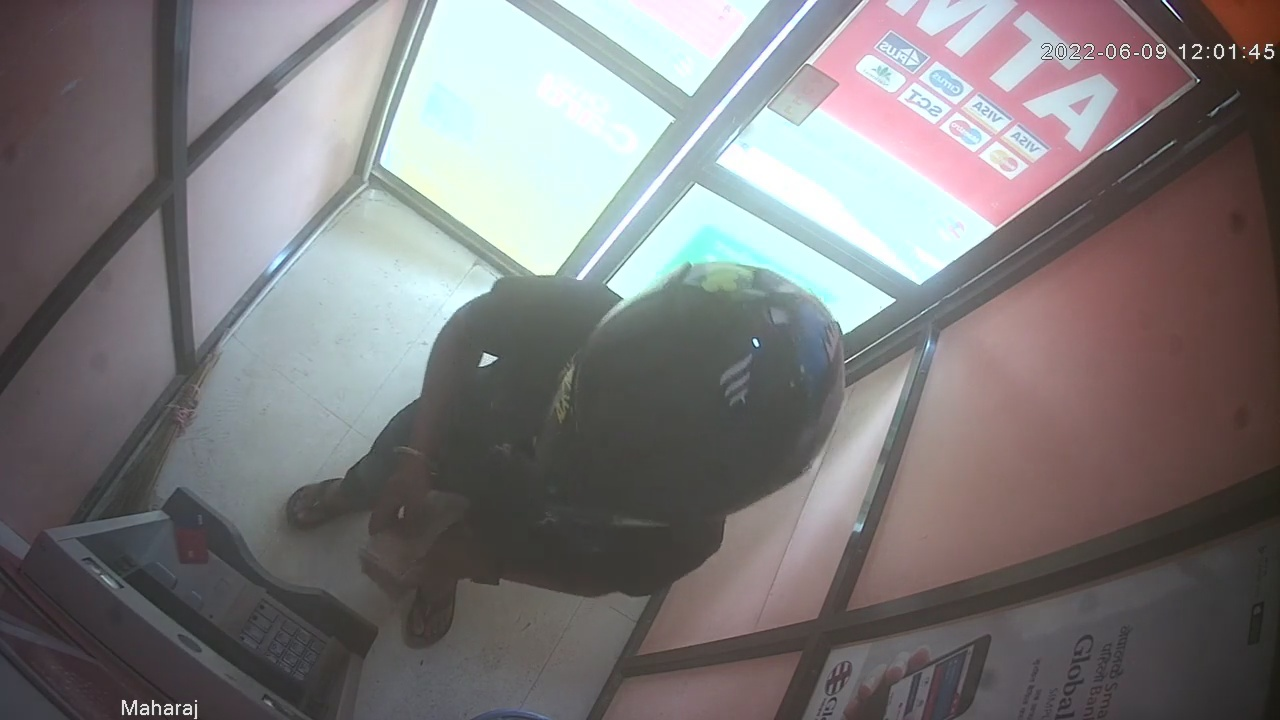helmet: (534, 260, 847, 537)
person: (285, 259, 847, 656)
